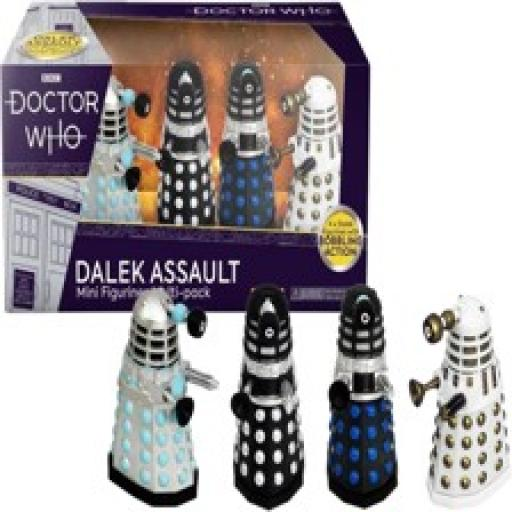dalek: (102, 288, 220, 510), (412, 294, 509, 504), (231, 285, 303, 506), (326, 287, 398, 507), (83, 77, 161, 218), (219, 60, 279, 226), (158, 59, 216, 225), (281, 76, 340, 230)
